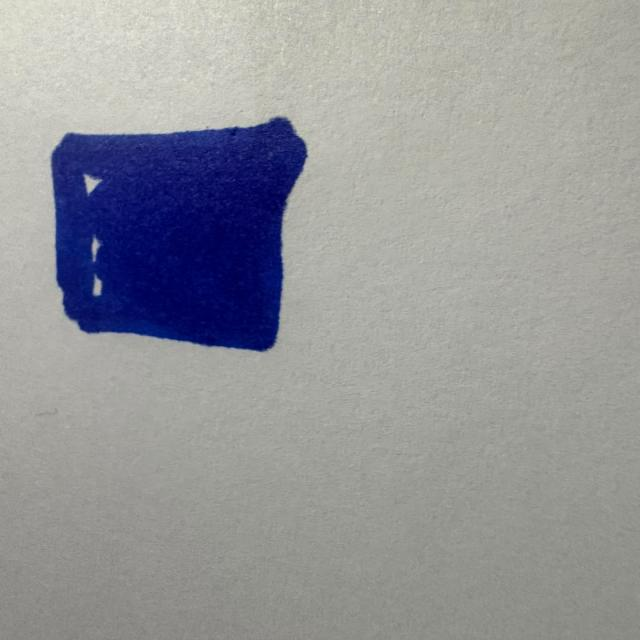Square: (51, 116, 308, 354)
